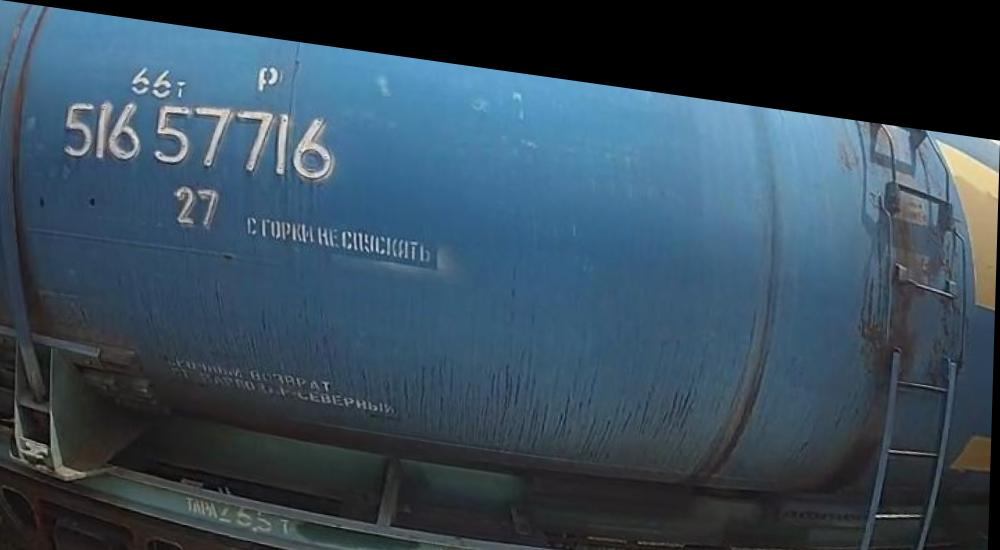Wagon-number: (57, 76, 342, 192)
